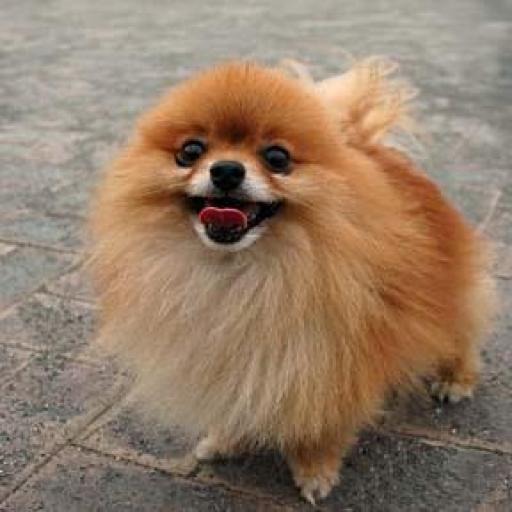dog_face: (124, 51, 308, 242)
